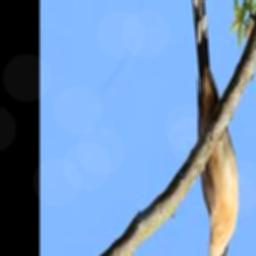Cuckoo: (190, 0, 238, 256)
